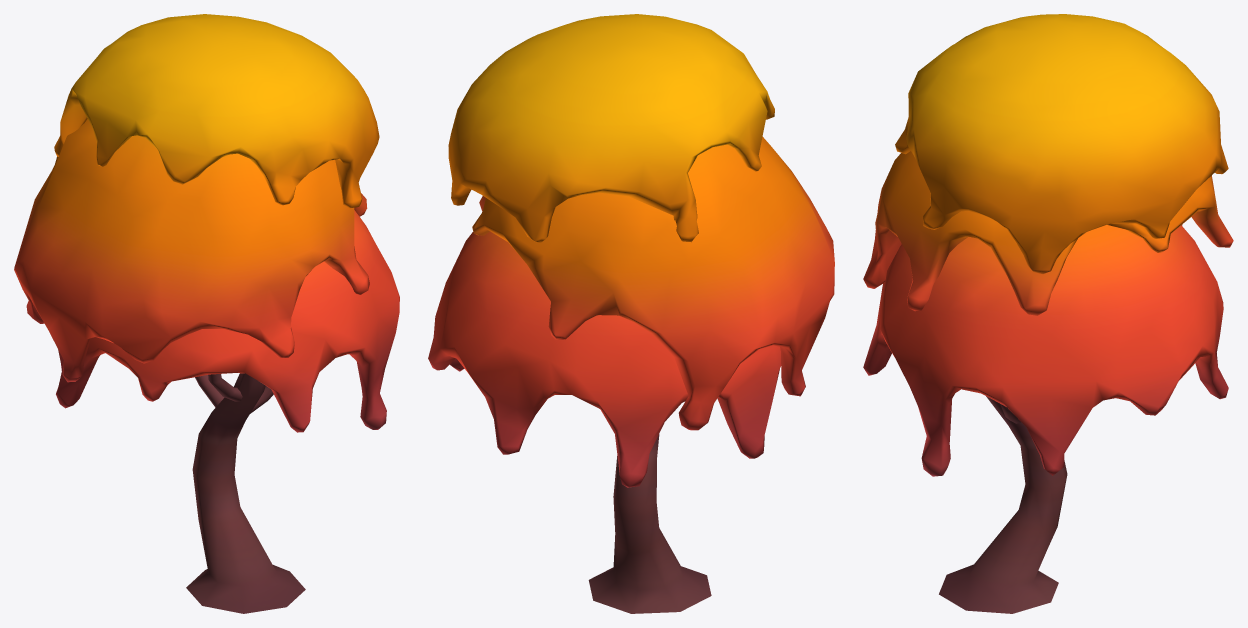
File: arboles.fbx
3 renders of one model, left to right at view 1: azimuth 30°, elevation 25°; view 2: azimuth 150°, elevation 25°; view 3: azimuth 270°, elevation 25°, orthographic. The views are drawn at different scales.
Parts seen in each view (by area): view 1: Tree.017_Base_Material_0.001; view 2: Tree.017_Base_Material_0.001; view 3: Tree.017_Base_Material_0.001.
Boxes of the visible parts, box(x1,y1,x2,y2) form: Tree.017_Base_Material_0.001: box(14, 14, 399, 613); Tree.017_Base_Material_0.001: box(428, 14, 834, 613); Tree.017_Base_Material_0.001: box(863, 14, 1233, 613).
Bounding box in the file's own units: 404 × 617 × 377.
